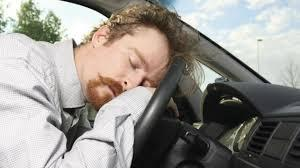Drowsy: (74, 0, 208, 134)
